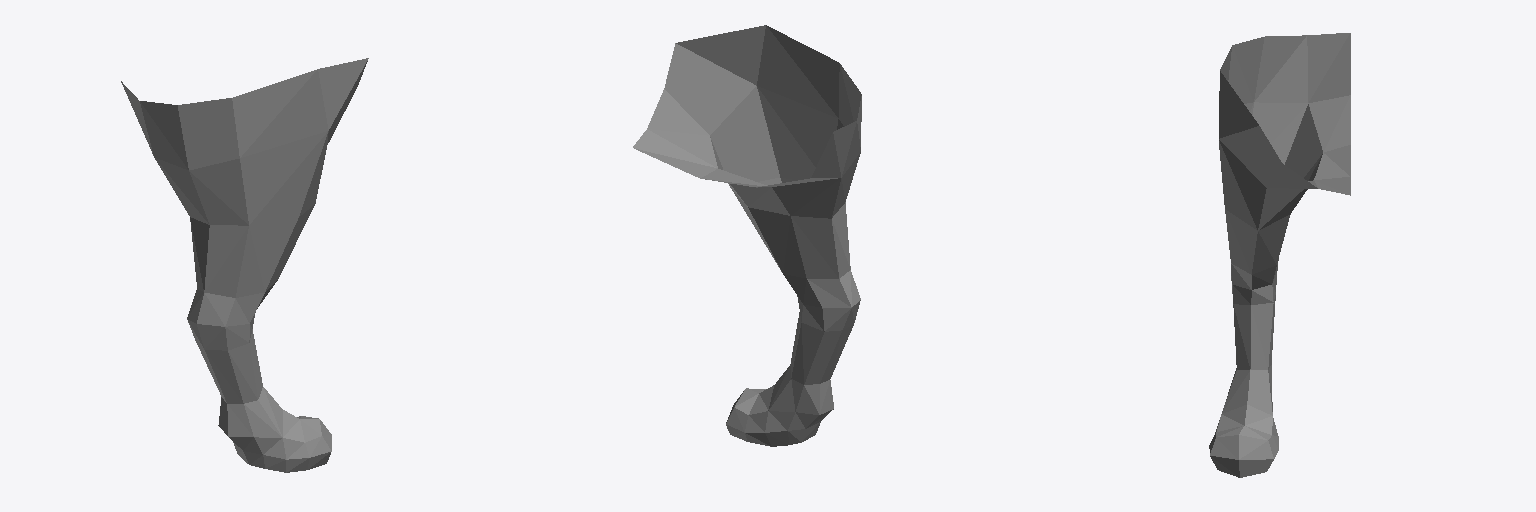
File: WBackRightLeg.obj
The picture shows the model from 3 angles: view 1: azimuth 30°, elevation 25°; view 2: azimuth 150°, elevation 25°; view 3: azimuth 270°, elevation 25°; orthographic projection.
Parts seen in each view (by area): view 1: WBackRightleg; view 2: WBackRightleg; view 3: WBackRightleg.
Part boxes in pixels (x1,y1,x2,y2): WBackRightleg: (121, 58, 368, 472); WBackRightleg: (633, 25, 861, 446); WBackRightleg: (1209, 33, 1350, 477).
Bounding box in the file's own units: 2.5 × 4.67 × 1.48.